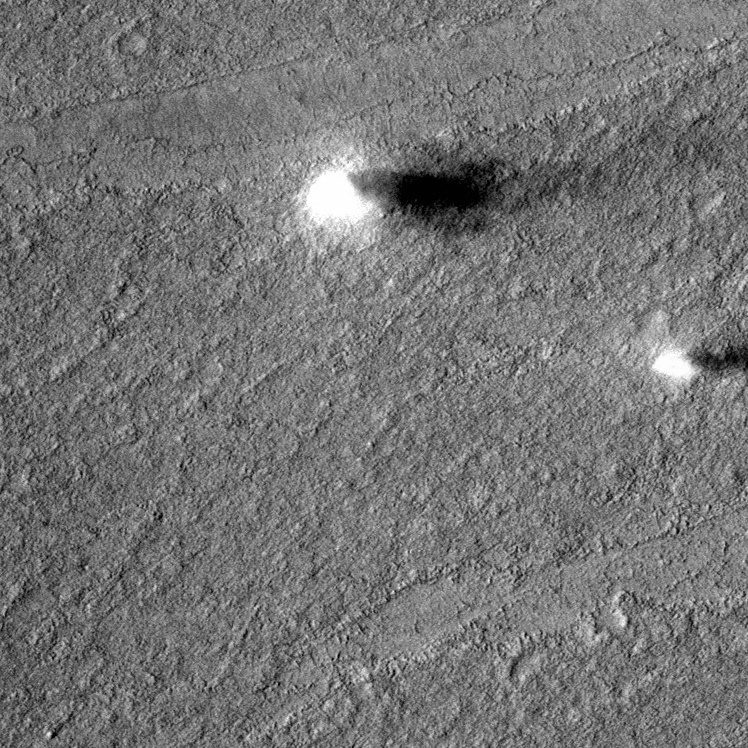dust_devil: (300, 158, 500, 243), (644, 337, 748, 384)
